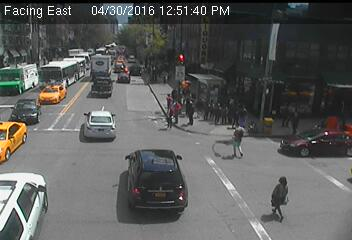neg: (168, 155, 201, 198), (80, 115, 107, 151), (119, 143, 146, 178), (31, 159, 54, 190), (286, 32, 309, 63), (132, 55, 154, 84), (309, 122, 330, 149), (261, 66, 280, 93), (86, 63, 105, 89), (31, 57, 50, 82), (299, 84, 316, 106), (175, 46, 192, 68), (319, 58, 334, 78), (98, 32, 111, 50), (221, 78, 233, 95)
pos: (260, 170, 298, 220), (223, 121, 255, 164), (179, 97, 200, 125), (161, 105, 179, 129), (288, 109, 306, 133), (276, 100, 293, 122)
